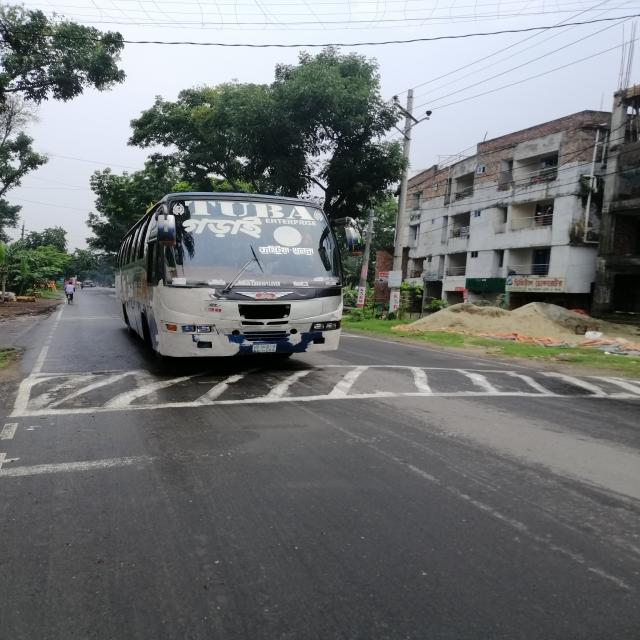Bus: (114, 195, 345, 365)
